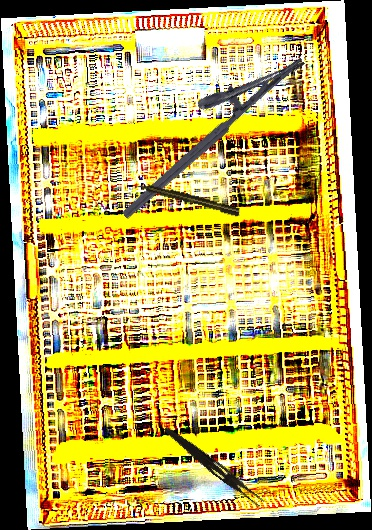Dressing Forceps: (159, 425, 268, 508)
Handpiece: (132, 179, 242, 218)
Needle Holder: (98, 31, 308, 221)
